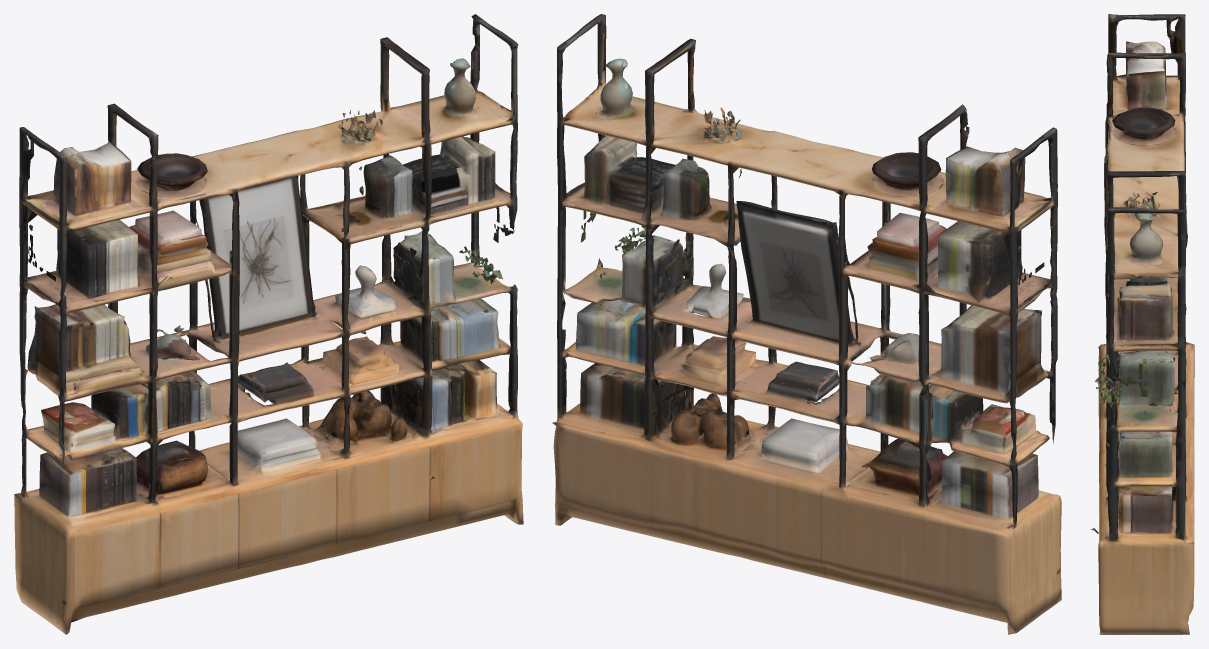
Rendered from meshy_model_1758341044.30502.glb.
The picture shows the model from 3 angles, left to right: view 1: azimuth 30°, elevation 25°; view 2: azimuth 150°, elevation 25°; view 3: azimuth 270°, elevation 25°; orthographic projection. The views are drawn at different scales.
Size of the model in its own units: 2 by 2 by 0.444.
Materials: 1 (1 with a texture image).
